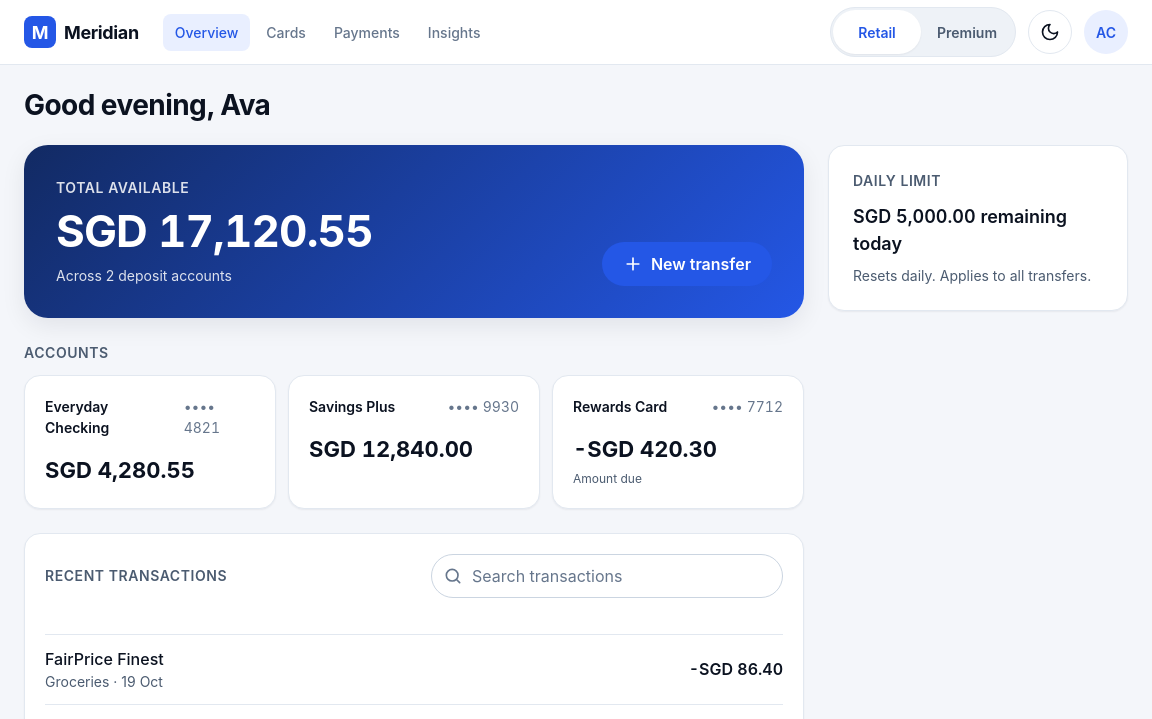
recipient step › lists every payee and filters them by name or bank
The image size is (1152, 719).
Click the button "New transfer" at (687, 264), box [602,242,772,286]
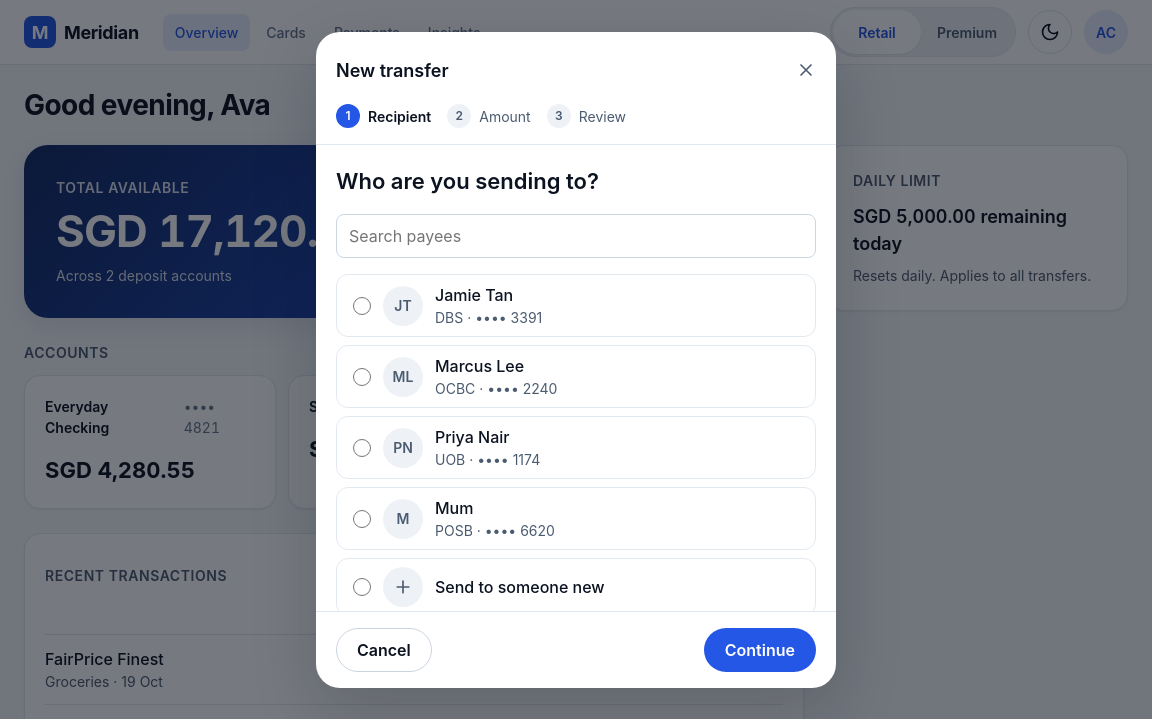
expect the radio button labelled "JT Jamie Tan DBS · •••• 3391" is shown: met, box [353,296,371,314]
expect the number of radio buttons is 5: met, box [353,296,371,314]; [353,368,371,386]; [353,438,371,456]; [353,510,371,528]; [353,578,371,596]
Type "ocbc" into the search field labelled "Search payees" at (576, 236), box [336,214,816,258]
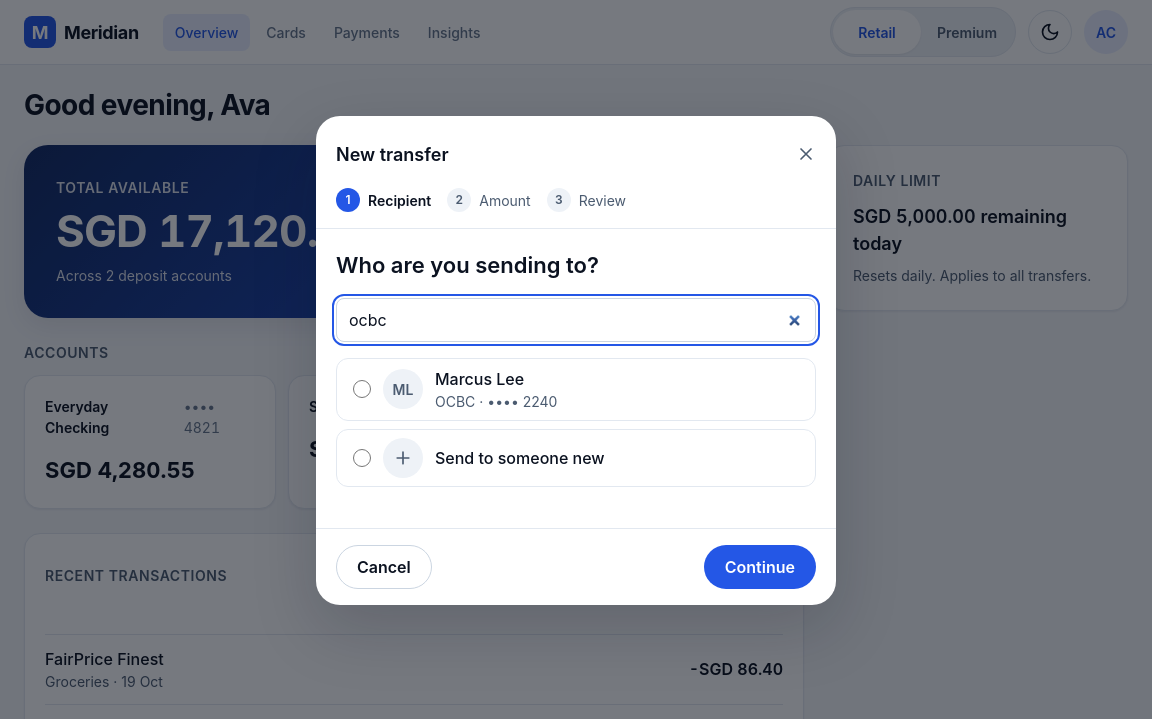
expect the number of radio buttons is 2: met, box [353,380,371,398]; [353,448,371,466]
